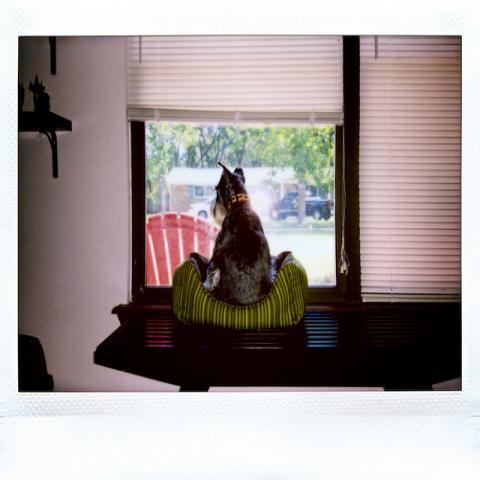car: (187, 198, 216, 218)
truck: (268, 190, 331, 221)
